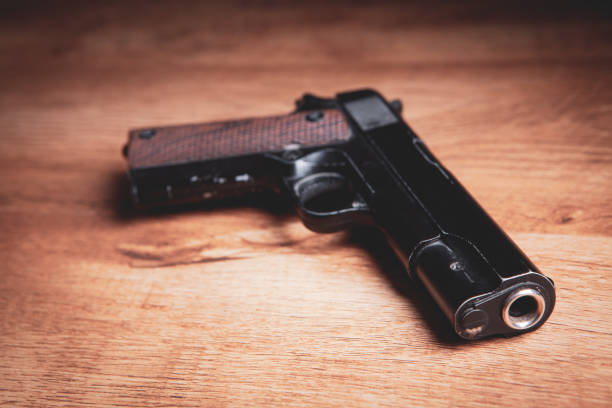gun: (120, 86, 559, 346)
